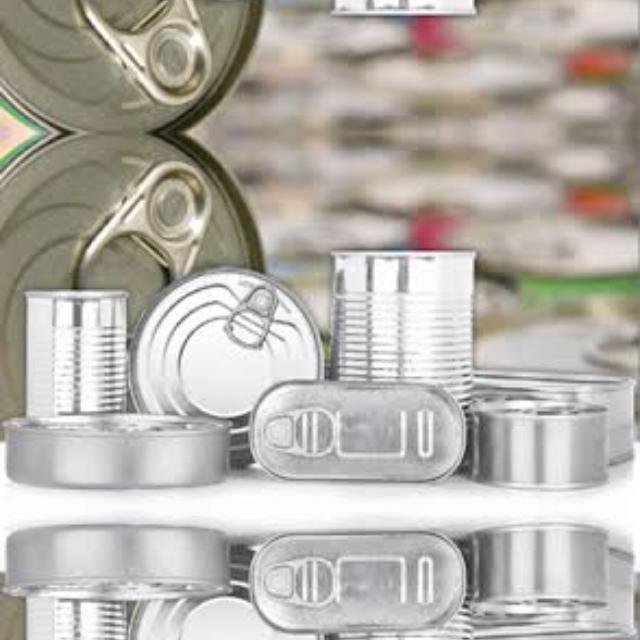Metal: (128, 262, 326, 468), (333, 246, 475, 472), (250, 528, 464, 634), (250, 380, 464, 484), (128, 545, 325, 640), (6, 412, 230, 490), (6, 523, 230, 601), (333, 541, 475, 640), (24, 287, 130, 419), (469, 522, 609, 618), (469, 396, 609, 490), (24, 593, 129, 640), (333, 0, 475, 18), (128, 0, 325, 1)
